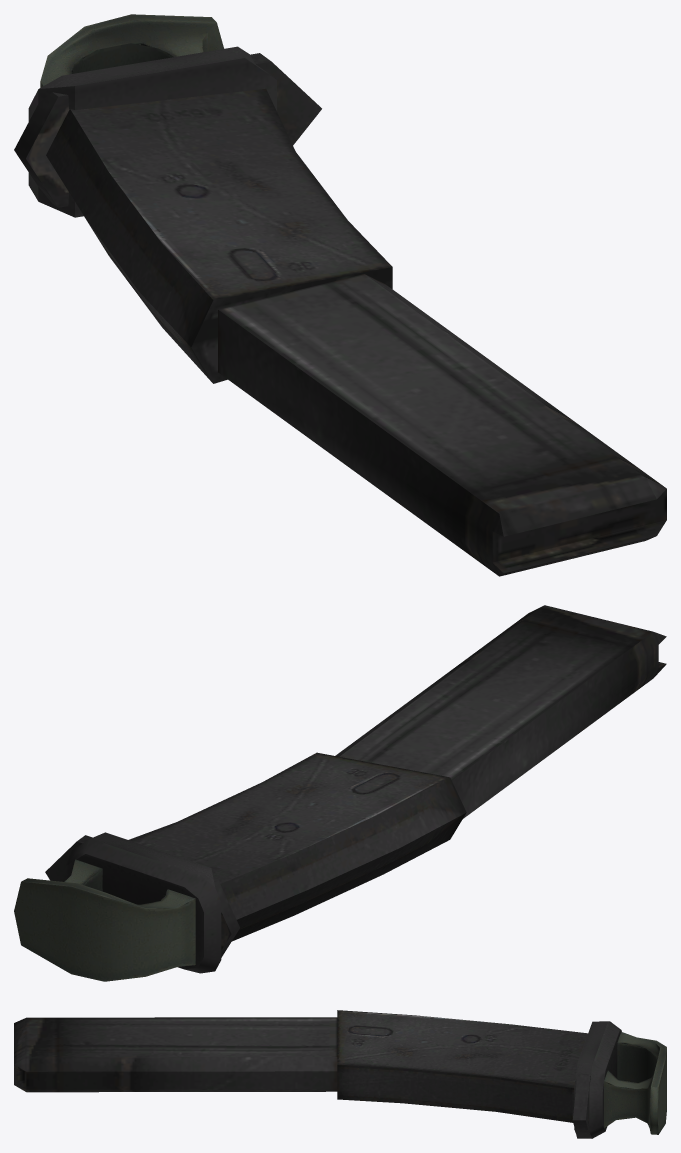
File: t6_attach_fastmag_mp7_world_LOD0.obj
The picture shows the model from 3 angles, top to bottom: view 1: azimuth 30°, elevation 25°; view 2: azimuth 150°, elevation 25°; view 3: azimuth 270°, elevation 25°; orthographic projection. The views are drawn at different scales.
Parts seen in each view (by area): view 1: mtl_t6_wpn_smg_mp7_camo1, mtl_t6_attach_fastmag; view 2: mtl_t6_wpn_smg_mp7_camo1, mtl_t6_attach_fastmag; view 3: mtl_t6_wpn_smg_mp7_camo1, mtl_t6_attach_fastmag.
Part boxes in pixels (box(x1,y1,x2,y2)): mtl_t6_wpn_smg_mp7_camo1: box(14, 53, 666, 576); mtl_t6_attach_fastmag: box(28, 14, 276, 217); mtl_t6_wpn_smg_mp7_camo1: box(45, 605, 666, 957); mtl_t6_attach_fastmag: box(14, 832, 221, 981); mtl_t6_wpn_smg_mp7_camo1: box(14, 1010, 591, 1138); mtl_t6_attach_fastmag: box(574, 1021, 666, 1138).
Bounding box in the file's own units: 8.21 × 3.01 × 24.36.
